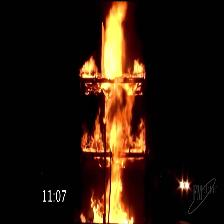fire: (94, 1, 135, 221)
